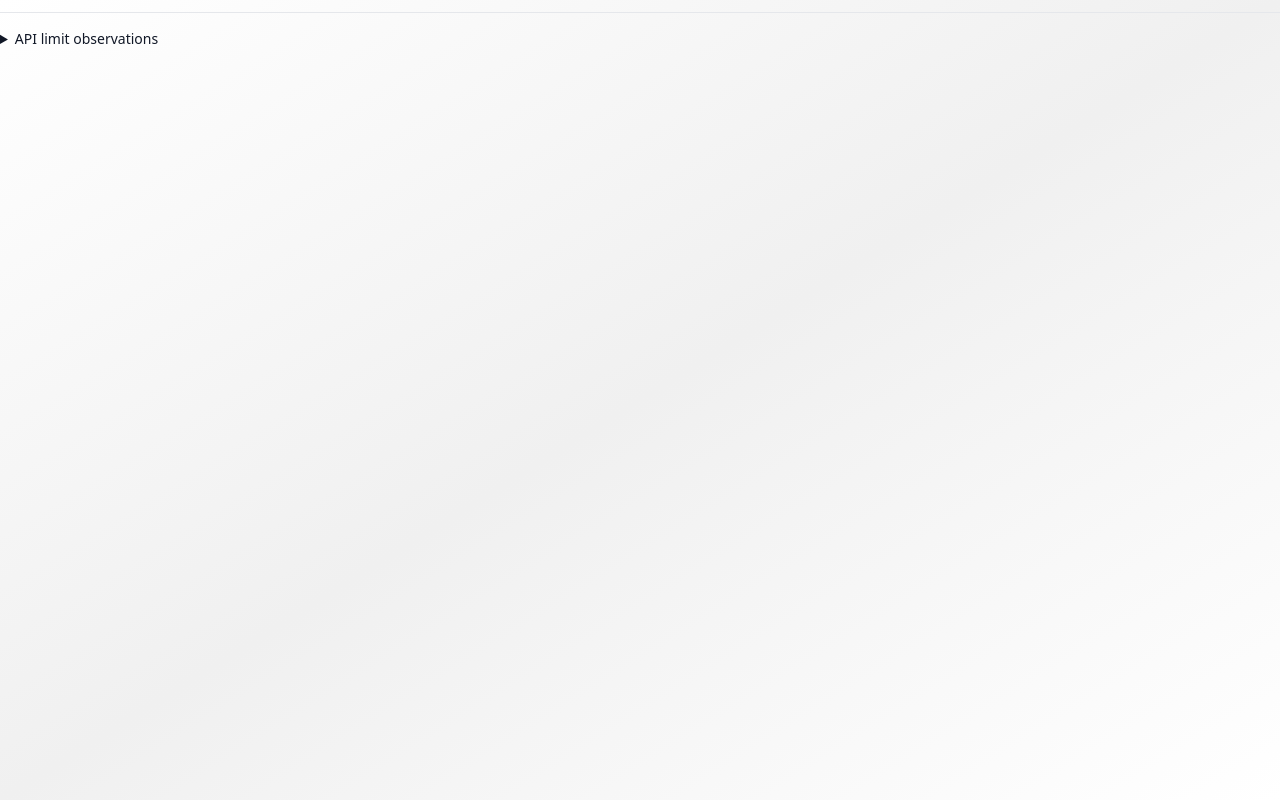
it: provider HTTP limit observations › queries only when expanded and distinguishes error
Click the heading "API limit observations" at (86, 38), box [15,29,158,48]
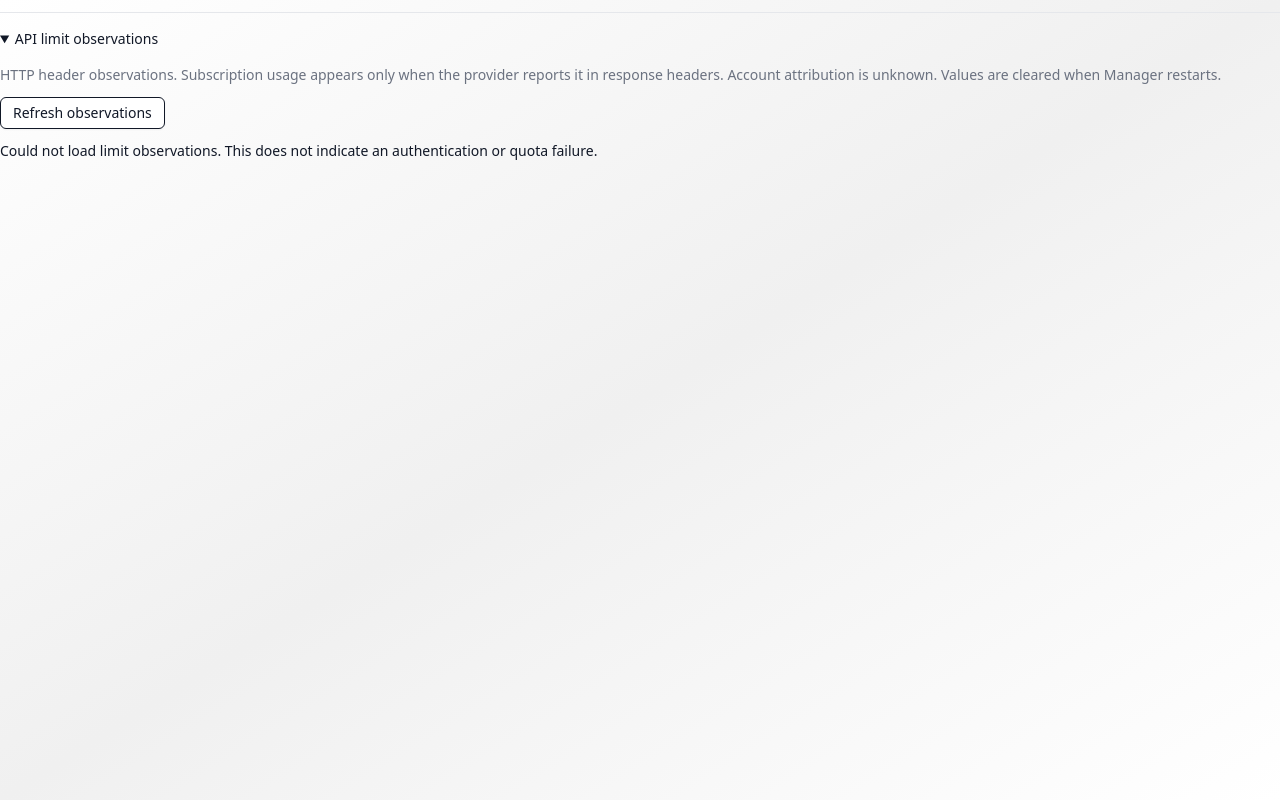
Check: the message shows "This does not indicate an authentication or quota failure.", box [0,141,597,160]
